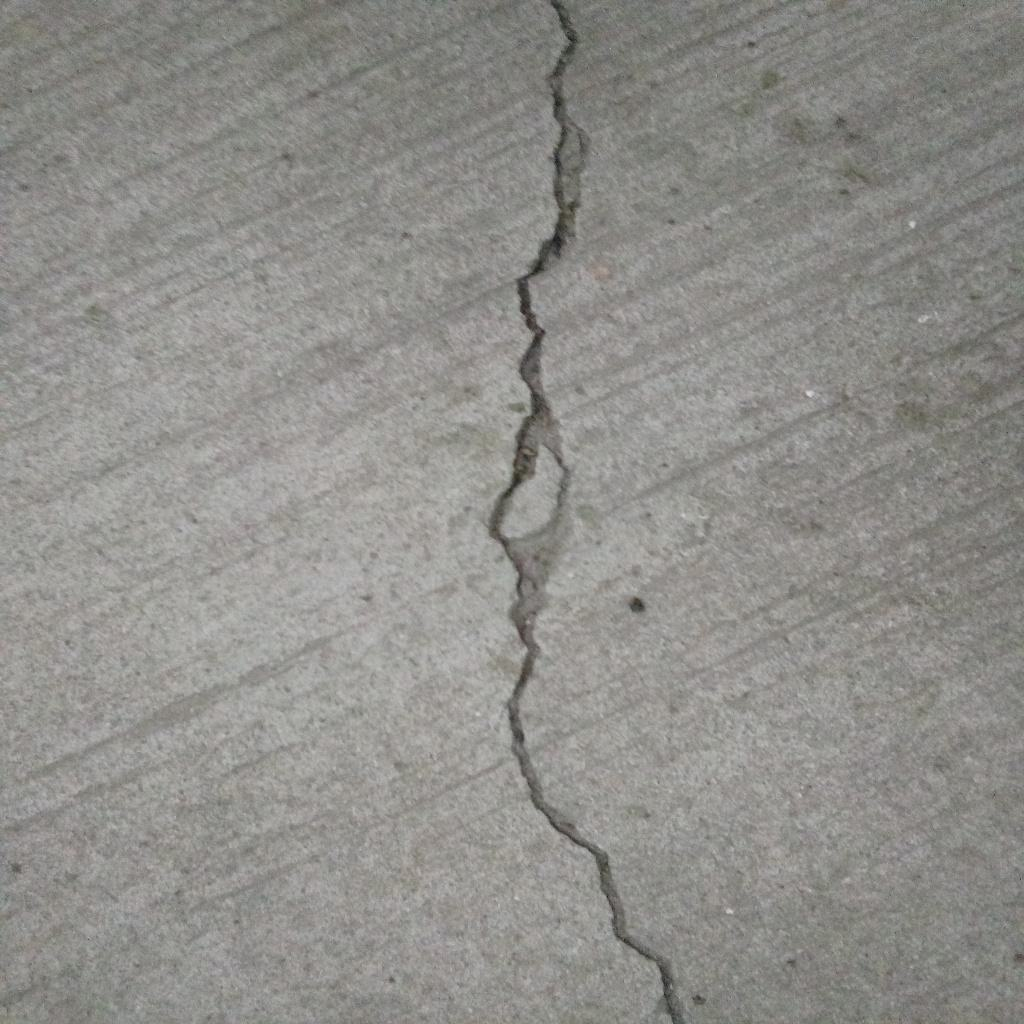Crack: (486, 1, 688, 1024)
